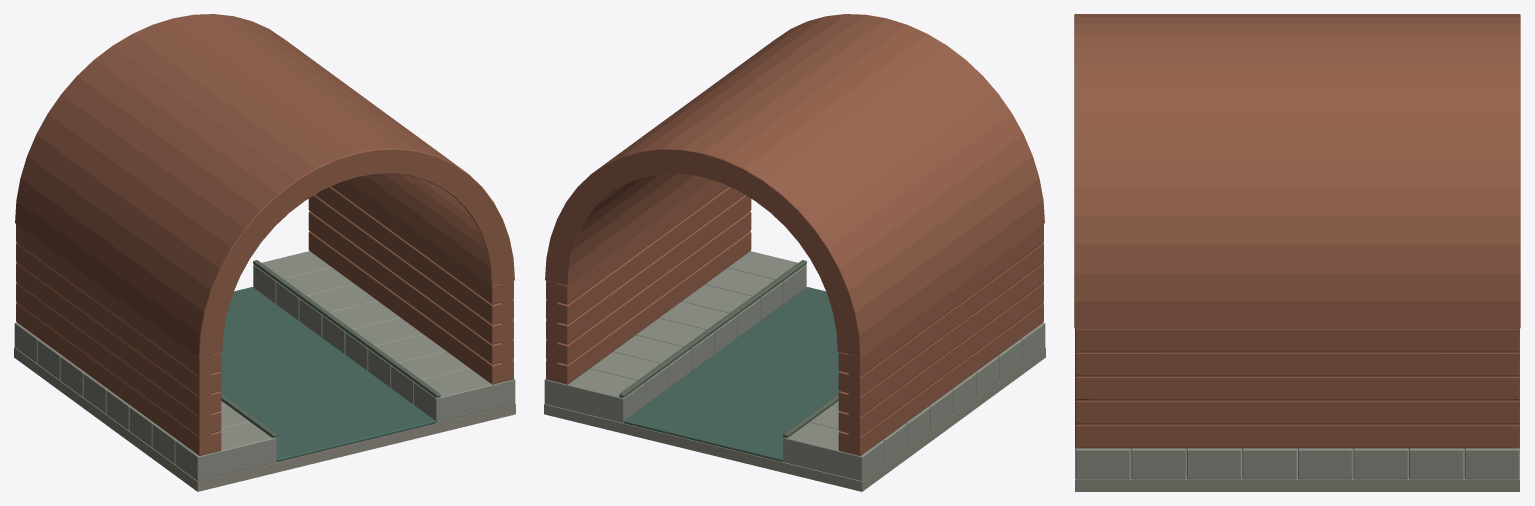
File: undercity-sewers-and-thieves-den-smooth-vault-tunnel-acd0616c__25012.glb
3 renders of one model, left to right at view 1: azimuth 30°, elevation 25°; view 2: azimuth 150°, elevation 25°; view 3: azimuth 270°, elevation 25°, orthographic. The views are drawn at different scales.
Visible parts, largest first — view 1: smooth-vault-tunnel; view 2: smooth-vault-tunnel; view 3: smooth-vault-tunnel.
Part boxes in pixels (x1,y1,x2,y2): smooth-vault-tunnel: (14,14,515,491); smooth-vault-tunnel: (544,14,1045,491); smooth-vault-tunnel: (1074,14,1520,491).
Bounding box in the file's own units: 4 × 3.61 × 4.02.
